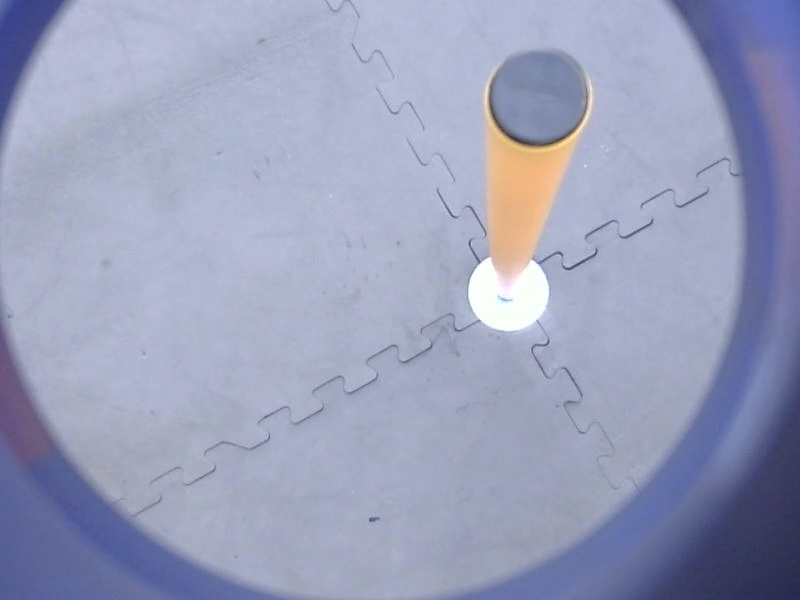tip: (479, 41, 600, 153)
